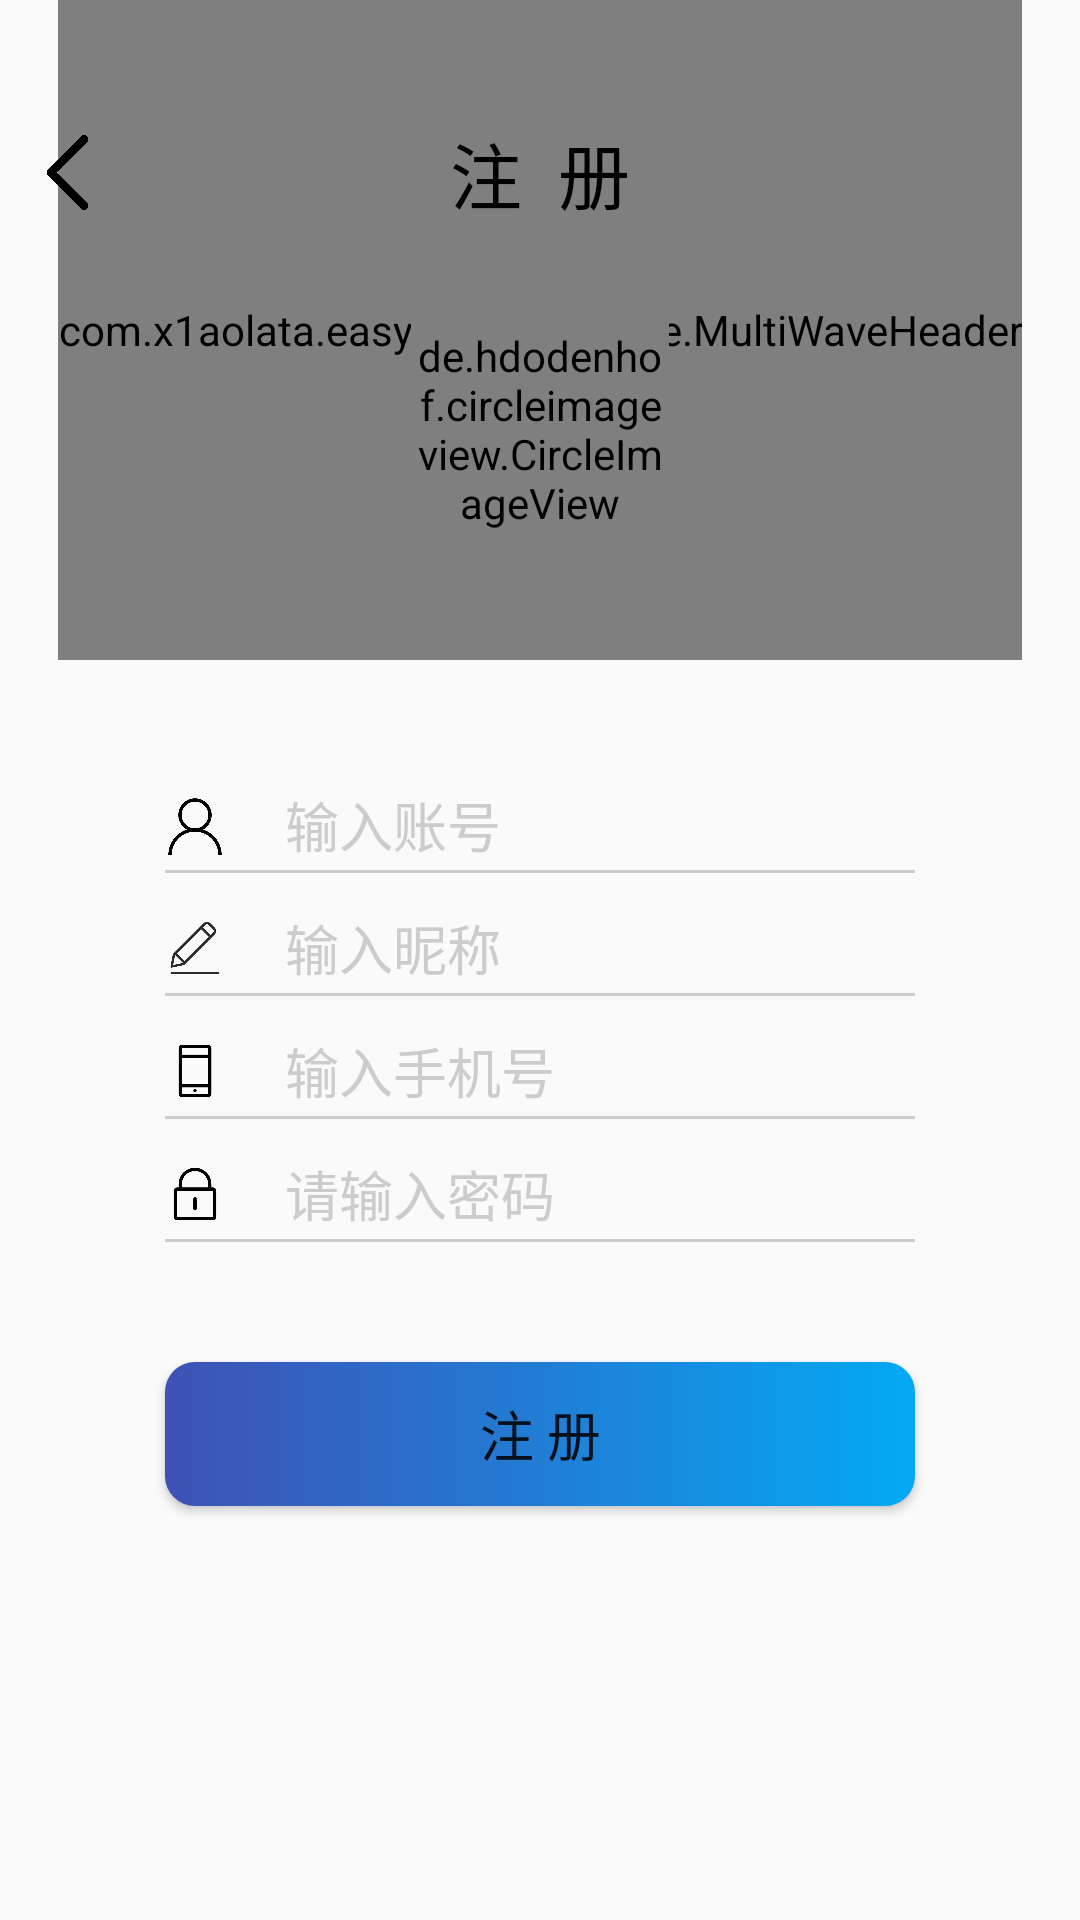

Named icons in this screenshot (1080 x 1920) and their centers, (x=x, y=y):
login password: (x=195, y=1194)
login user: (x=195, y=826)
register back: (x=67, y=172)
register phone: (x=195, y=1071)
